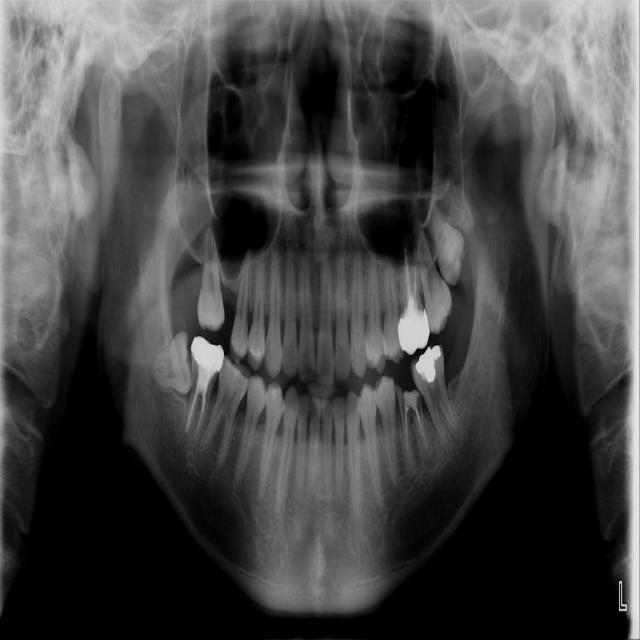Crown: (190, 336, 224, 386), (398, 302, 430, 355)
Filling: (415, 344, 441, 383)
Missing teeth: (219, 302, 237, 350)
Periapical lesion: (420, 440, 437, 470), (215, 462, 226, 476)
Root Canal Treatment: (185, 388, 201, 432), (414, 407, 429, 452), (194, 392, 207, 441), (405, 248, 411, 306), (404, 407, 409, 450), (413, 255, 417, 299)
impacted tooth: (426, 192, 466, 284), (153, 329, 192, 395)
